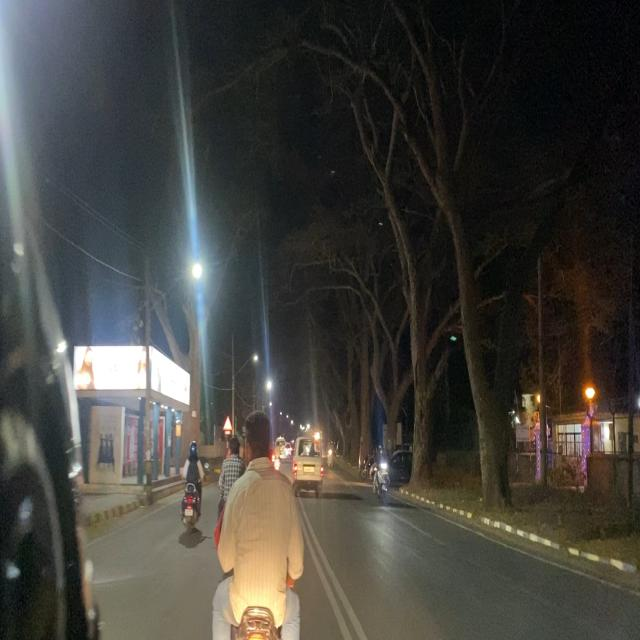bien_cam: (221, 412, 235, 437)
